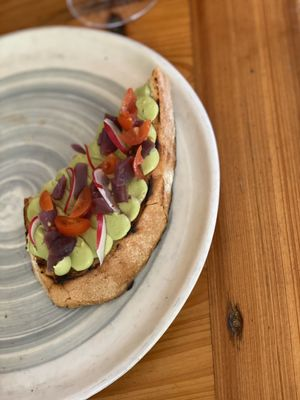pizza: (64, 0, 160, 31)
soup: (23, 74, 178, 308)
